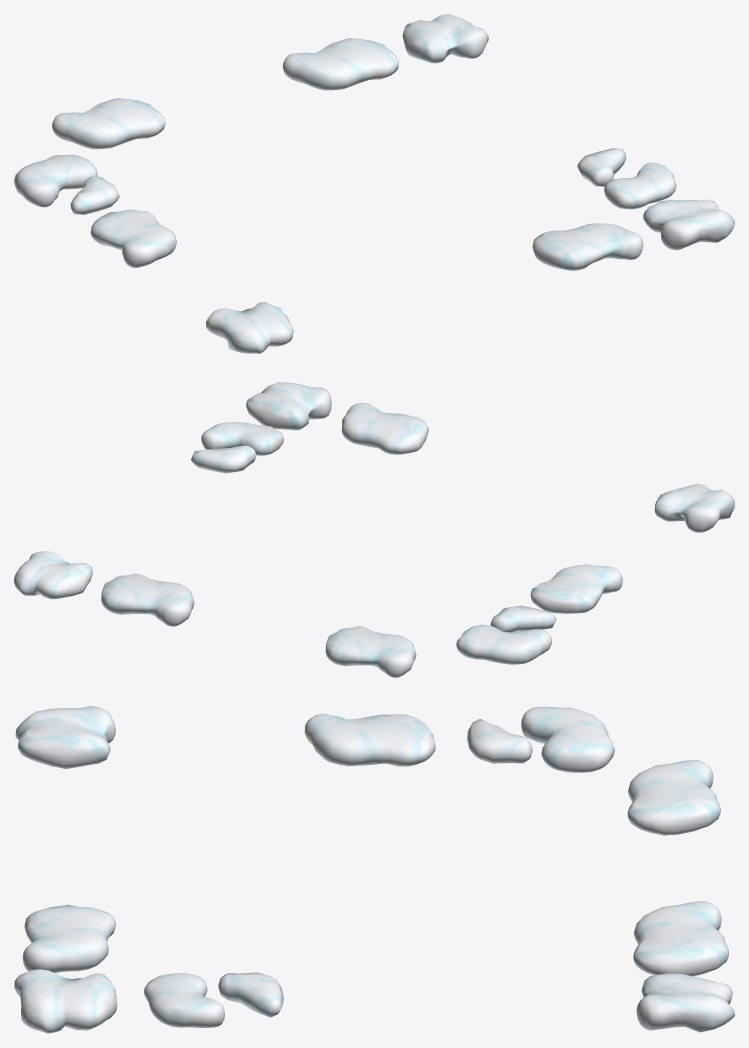
Rendered from S3_InF_WallAccessories_33_001.fbx.
3 views of the same model, one above another, from view 1: azimuth 30°, elevation 25°; view 2: azimuth 150°, elevation 25°; view 3: azimuth 270°, elevation 25° (orthographic). The views are drawn at different scales.
Parts seen in each view (by area): view 1: group266_group258_pCube449; view 2: group266_group258_pCube449; view 3: group266_group258_pCube449.
Boxes of the visible parts, box(x1,y1,x2,y2) form: group266_group258_pCube449: box(14, 14, 734, 353); group266_group258_pCube449: box(14, 382, 734, 677); group266_group258_pCube449: box(14, 706, 734, 1033).
Size of the model in its own units: 6.21 by 0.3155 by 6.15.
